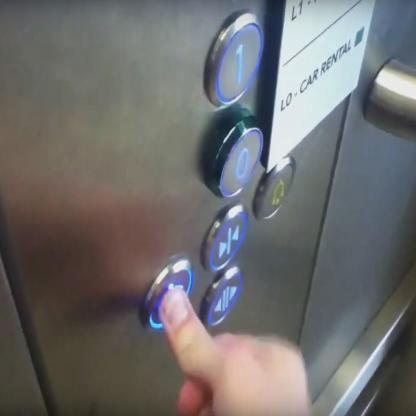0: (210, 110, 263, 196)
1: (202, 9, 263, 109)
alarm: (252, 152, 296, 221)
close: (200, 199, 249, 271)
open: (196, 264, 244, 329)
